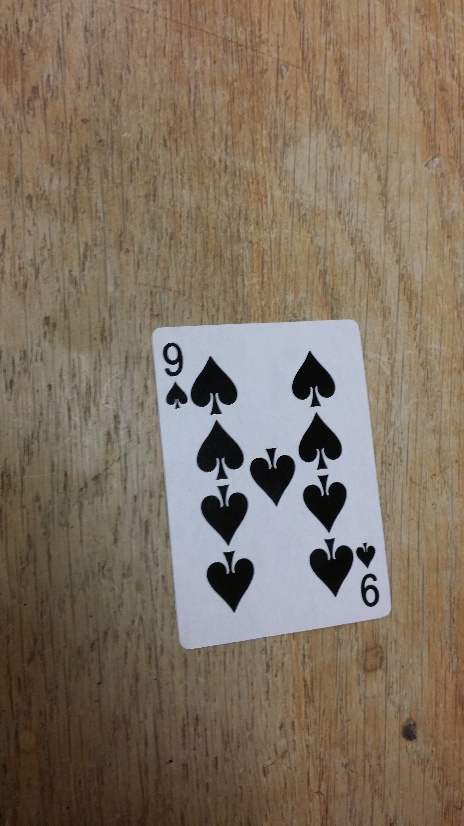S9: (158, 336, 193, 413), (356, 537, 382, 612)
